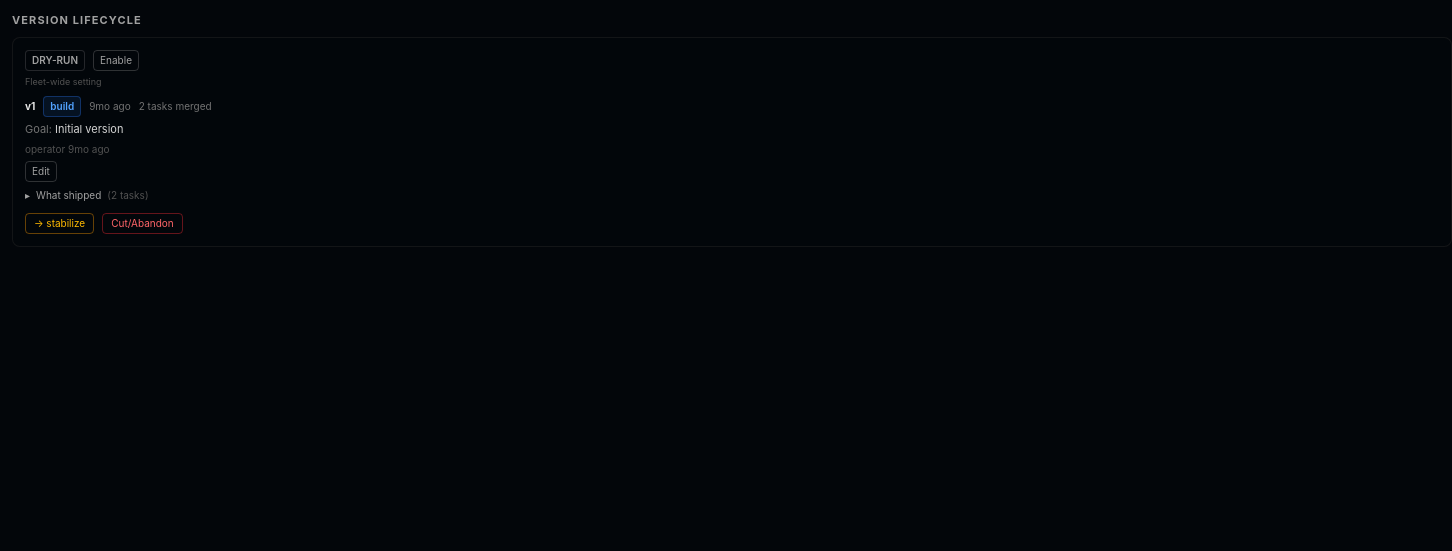
Scenario: VersionLifecyclePanel › changelog toggle › expands VersionSummaryPanel when toggle is clicked
This screenshot has width=1452, height=551.
Click the button with test id "changelog-toggle". click: [87, 195]
box: 25,186 -> 148,204
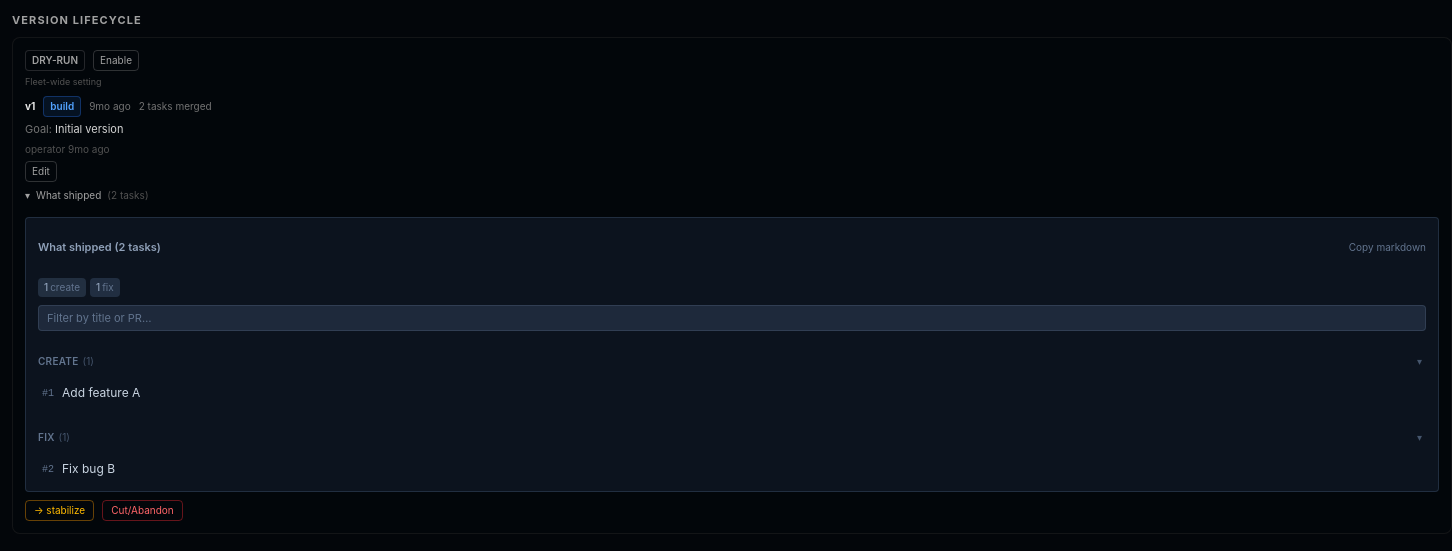
Expected: the element with test id "version-summary-panel" is shown, 25,216 -> 1439,492
